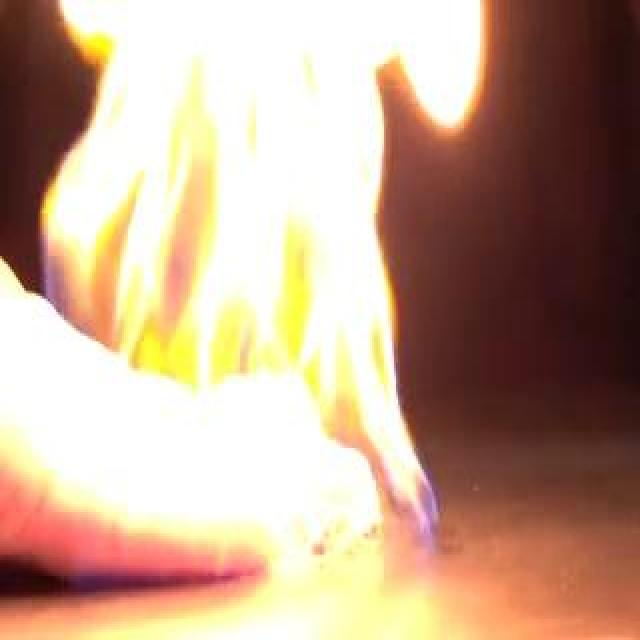Fire: (31, 1, 455, 567)
